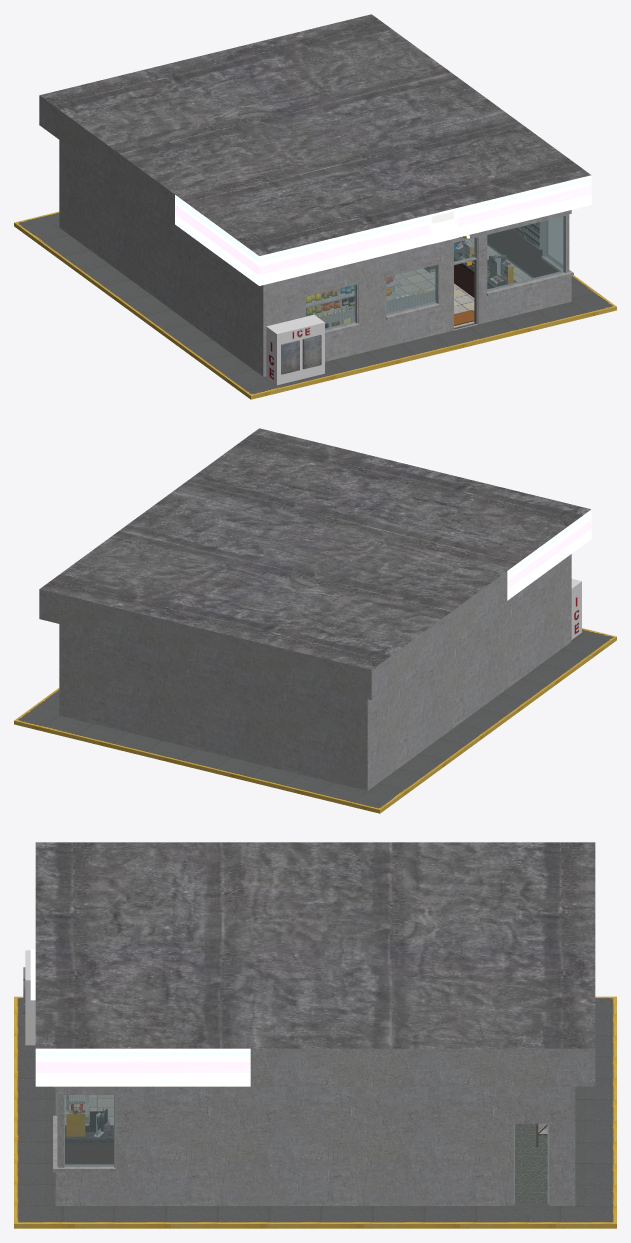
The model's file is SM_SixTwelveShop.glb.
3 renders of one model, top to bottom at view 1: azimuth 30°, elevation 25°; view 2: azimuth 150°, elevation 25°; view 3: azimuth 270°, elevation 25°, orthographic. The views are drawn at different scales.
Visible parts, largest first — view 1: SM_SixTwelveShop; view 2: SM_SixTwelveShop; view 3: SM_SixTwelveShop.
Part boxes in pixels (x1,y1,x2,y2): SM_SixTwelveShop: (14,14,616,399); SM_SixTwelveShop: (14,428,616,813); SM_SixTwelveShop: (14,842,616,1228).
Size of the model in its own units: 15 by 5.21 by 16.82.
Materials: 42 (39 with a texture image).
